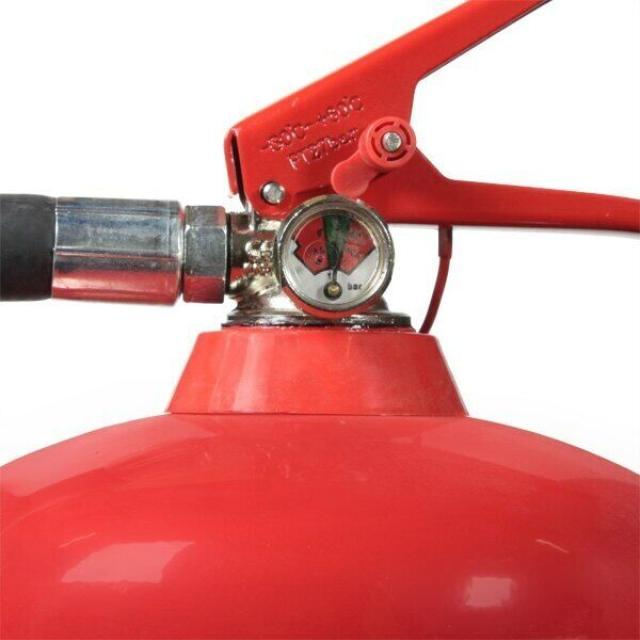pressure gauge: (274, 196, 393, 318)
